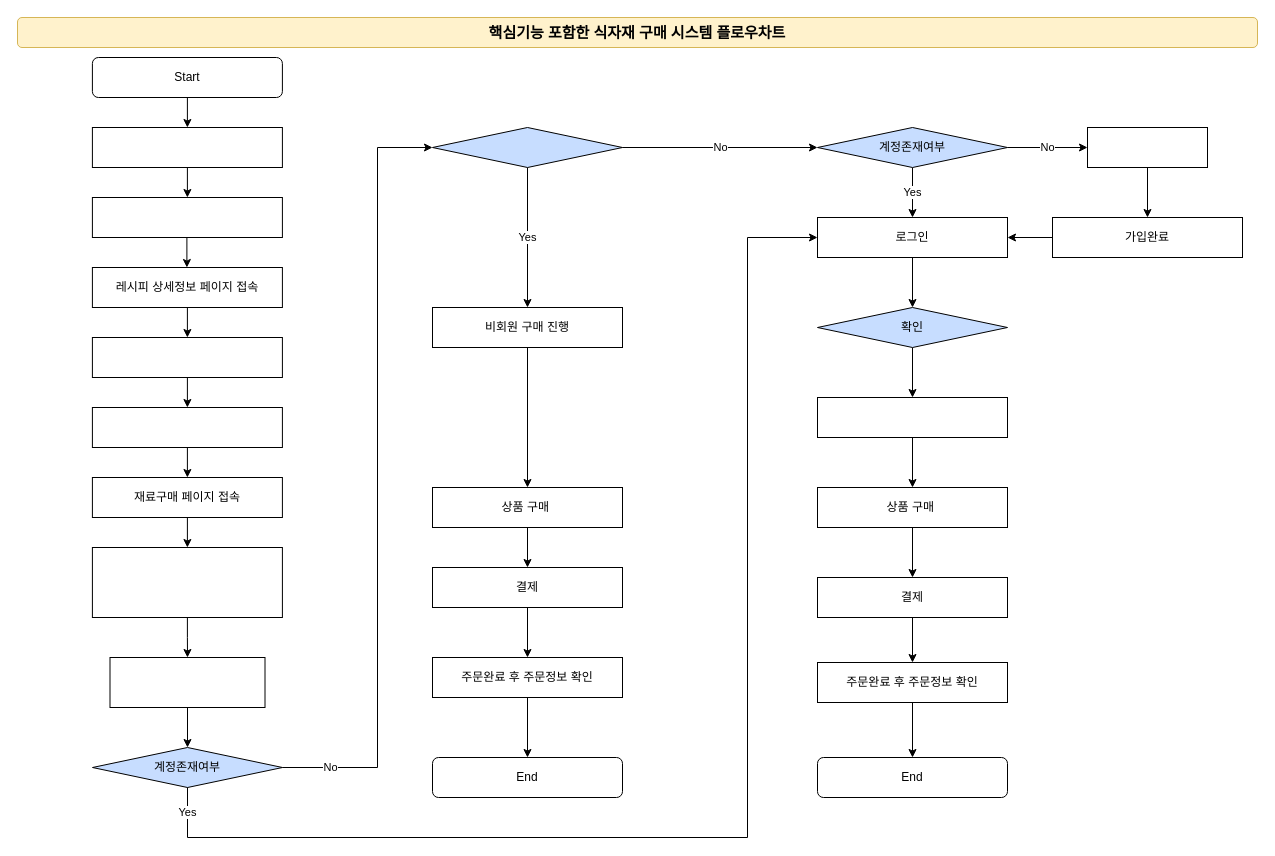
Image size: 1275x856. Some labels were removed from this diagram. The centre of each missing label's shape, as x and y in pixels:
메인화면 또는 레시피 게시판에서 원하는 레시피 글 선택: the point at 186,217
비회원 진행 여부: the point at 527,147
사용자 편의에 맞는 옵션 설정 또는 재료 변경 (브랜드/가격 선택): the point at 186,582
웹사이트 접속: the point at 186,147
장바구니 페이지 접속: the point at 912,417
재료 구성 보기: the point at 186,357
재료 통합 구매: the point at 186,427
최종 가격 및 정보 확인 후 장바구니에 담기 or 구매: the point at 187,682
회원가입: the point at 1147,147
